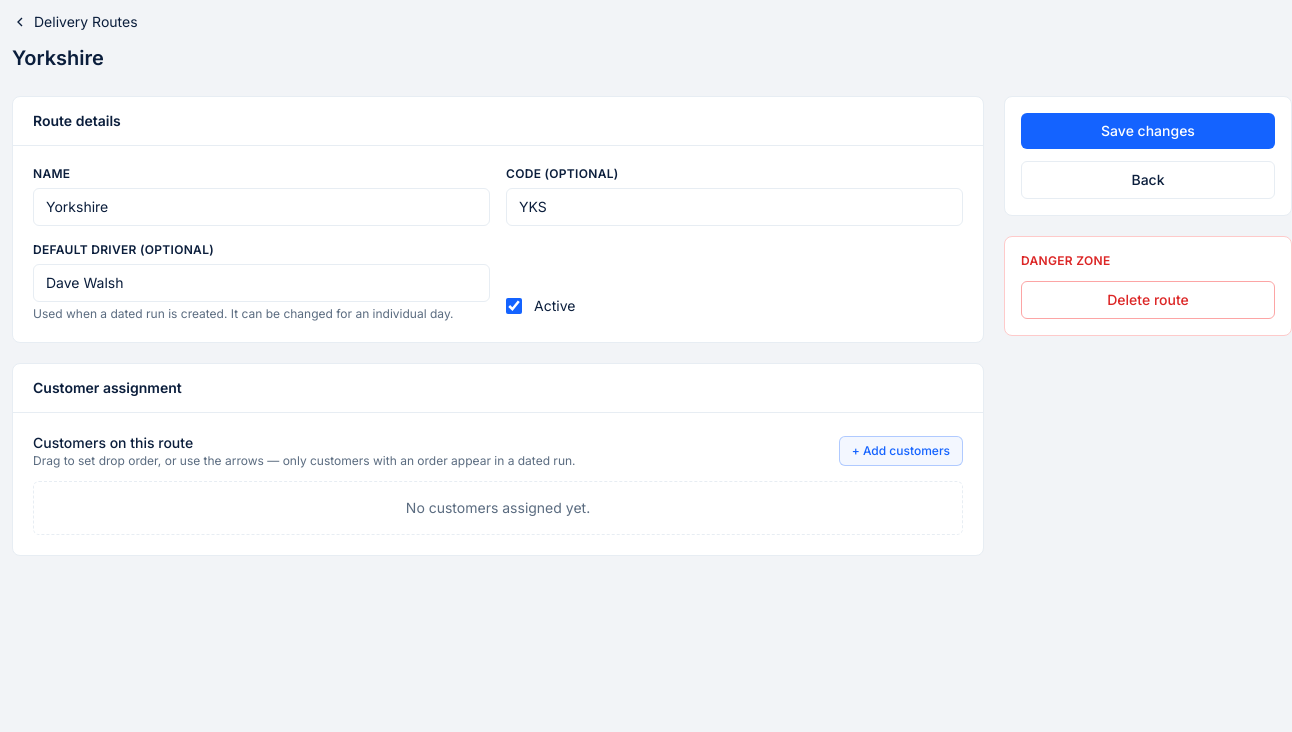
DeliveryRouteForm › updates an existing route and shows a Saved confirmation
This screenshot has width=1292, height=732.
Replace the text in the field showing "Yorkshire" with "Yorkshire (renamed)": (262, 207) [33,188,490,226]
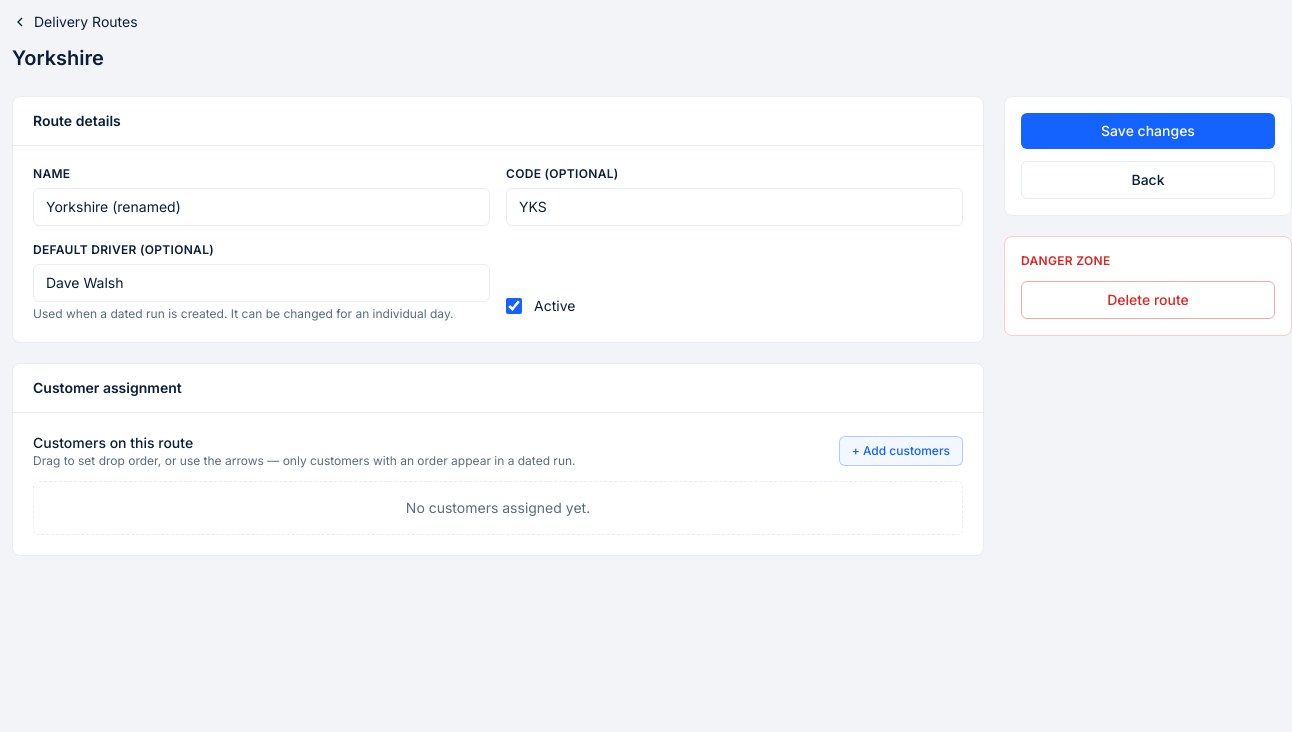
Click the button "Save changes": (1148, 131) [1021,113,1275,149]
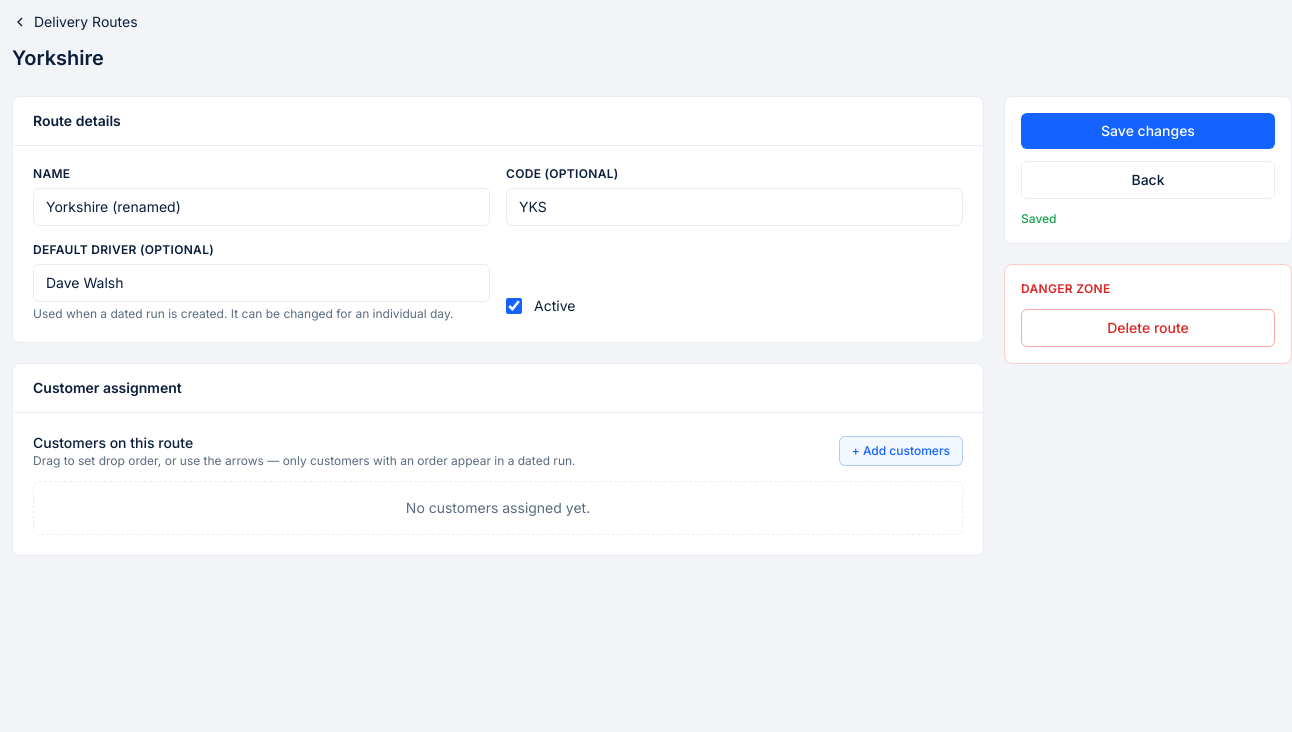
Check: the text "Saved" is shown, box [1021,211,1056,226]
